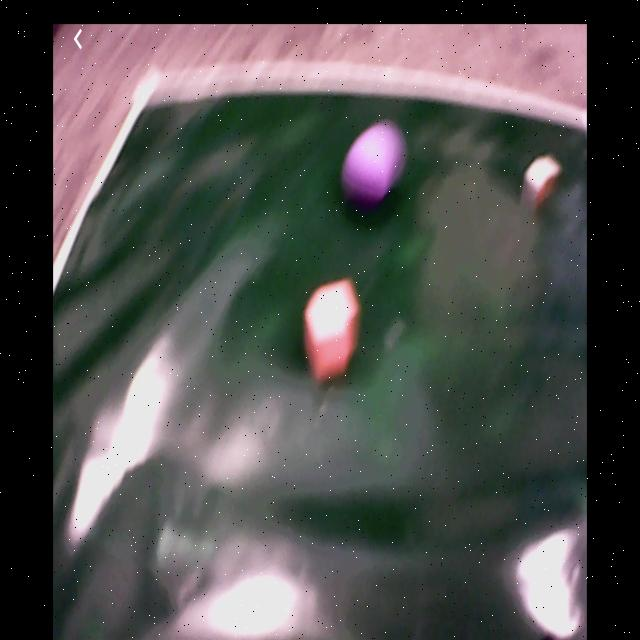ball: (344, 128, 393, 203)
